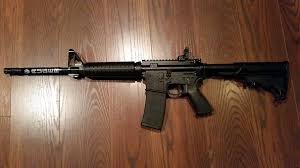gun: (2, 45, 292, 132)
